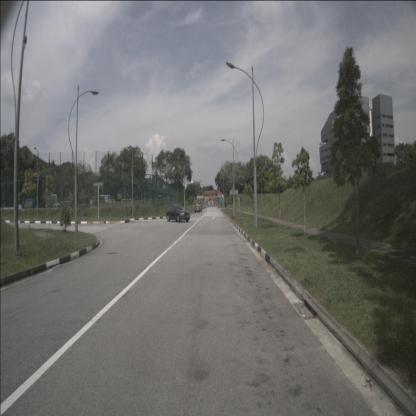vehicle-car: (166, 204, 190, 223), (194, 204, 200, 213), (197, 204, 202, 212)
